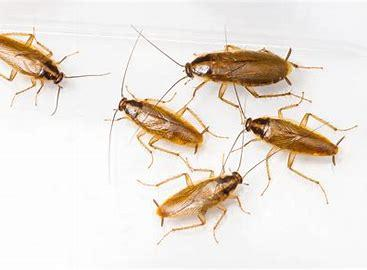cockroach: (128, 24, 315, 103), (92, 77, 230, 163), (240, 94, 353, 193), (133, 167, 274, 242), (0, 21, 87, 116)
